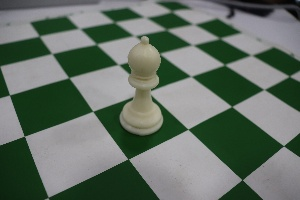white_bishop: (107, 13, 169, 143)
